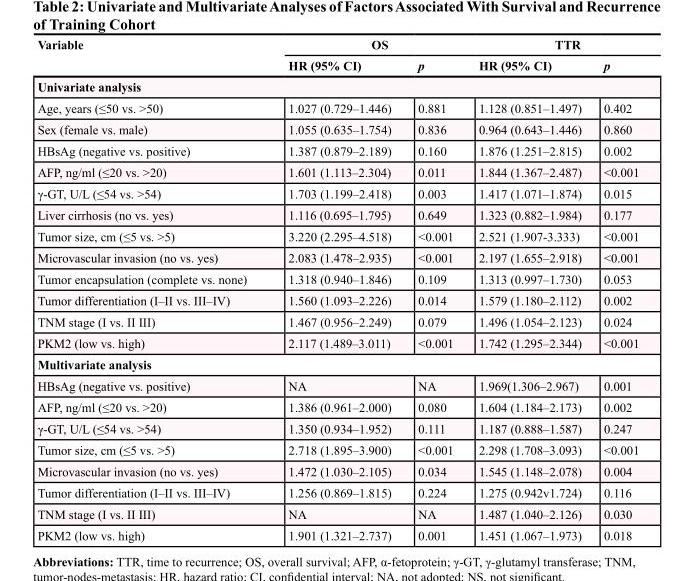table: (36, 36, 638, 542)
table column: (36, 36, 266, 542), (266, 36, 404, 542), (465, 36, 591, 542), (404, 36, 465, 542), (591, 36, 638, 542)
table column header: (36, 36, 638, 75)
table projected row header: (36, 75, 638, 96), (36, 353, 638, 374)
table row: (36, 96, 638, 118), (36, 139, 638, 161), (36, 203, 638, 225), (36, 246, 638, 268), (36, 310, 638, 332), (36, 374, 638, 396), (36, 438, 638, 460), (36, 502, 638, 524), (36, 54, 638, 75), (36, 75, 638, 96), (36, 118, 638, 139), (36, 161, 638, 182), (36, 182, 638, 203), (36, 225, 638, 246), (36, 268, 638, 289), (36, 289, 638, 310), (36, 332, 638, 353), (36, 353, 638, 374), (36, 396, 638, 417), (36, 417, 638, 438), (36, 460, 638, 481), (36, 481, 638, 502), (36, 36, 638, 54), (36, 524, 638, 542)
table spanning cell: (36, 36, 266, 75), (266, 36, 465, 54), (465, 36, 638, 54)
